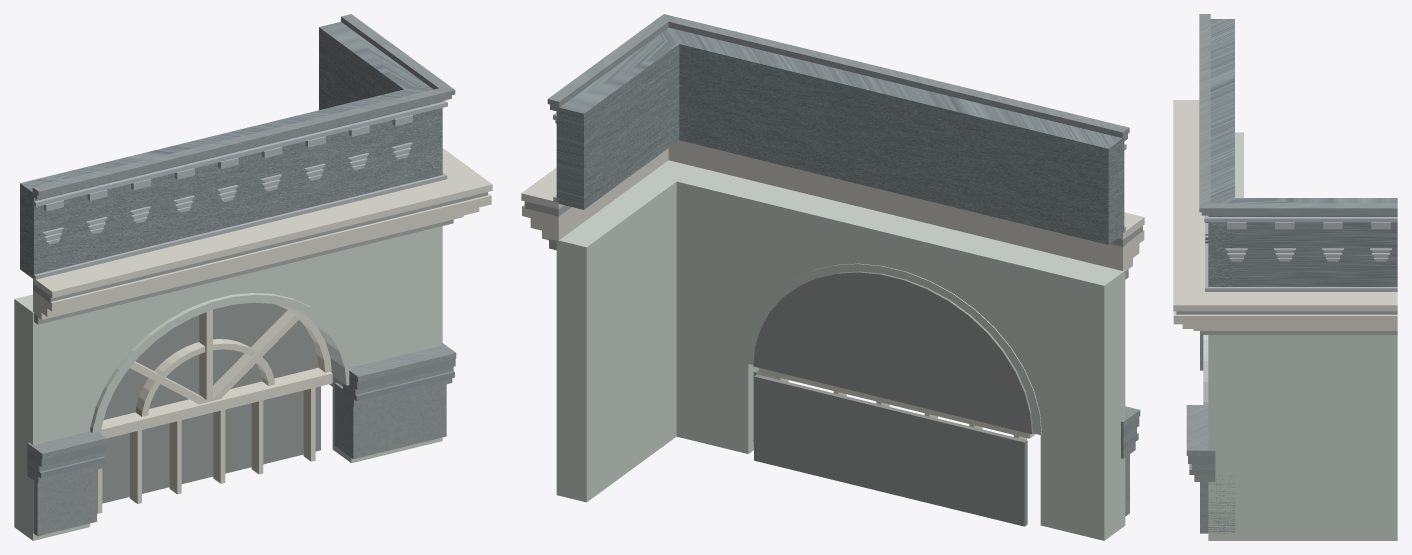
The model's file is yanqing-42-fanlight-and-returning-frieze-far.glb.
The picture shows the model from 3 angles, left to right: view 1: azimuth 30°, elevation 25°; view 2: azimuth 150°, elevation 25°; view 3: azimuth 270°, elevation 25°; orthographic projection. The views are drawn at different scales.
Parts seen in each view (by area): view 1: 延庆路42号住宅扇窗与转角灰饰腰线; view 2: 延庆路42号住宅扇窗与转角灰饰腰线; view 3: 延庆路42号住宅扇窗与转角灰饰腰线.
Part boxes in pixels (left/top/right/bottom): 延庆路42号住宅扇窗与转角灰饰腰线: left=14, top=14, right=492, bottom=540; 延庆路42号住宅扇窗与转角灰饰腰线: left=521, top=14, right=1144, bottom=540; 延庆路42号住宅扇窗与转角灰饰腰线: left=1173, top=14, right=1397, bottom=540.
Size of the model in its own units: 2.4 by 1.82 by 1.1.
Materials: 9 (2 with a texture image).
